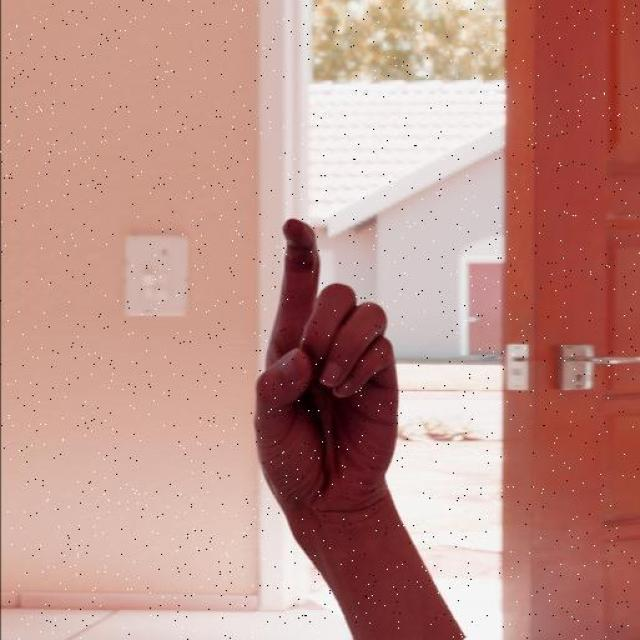X: (248, 213, 402, 522)
